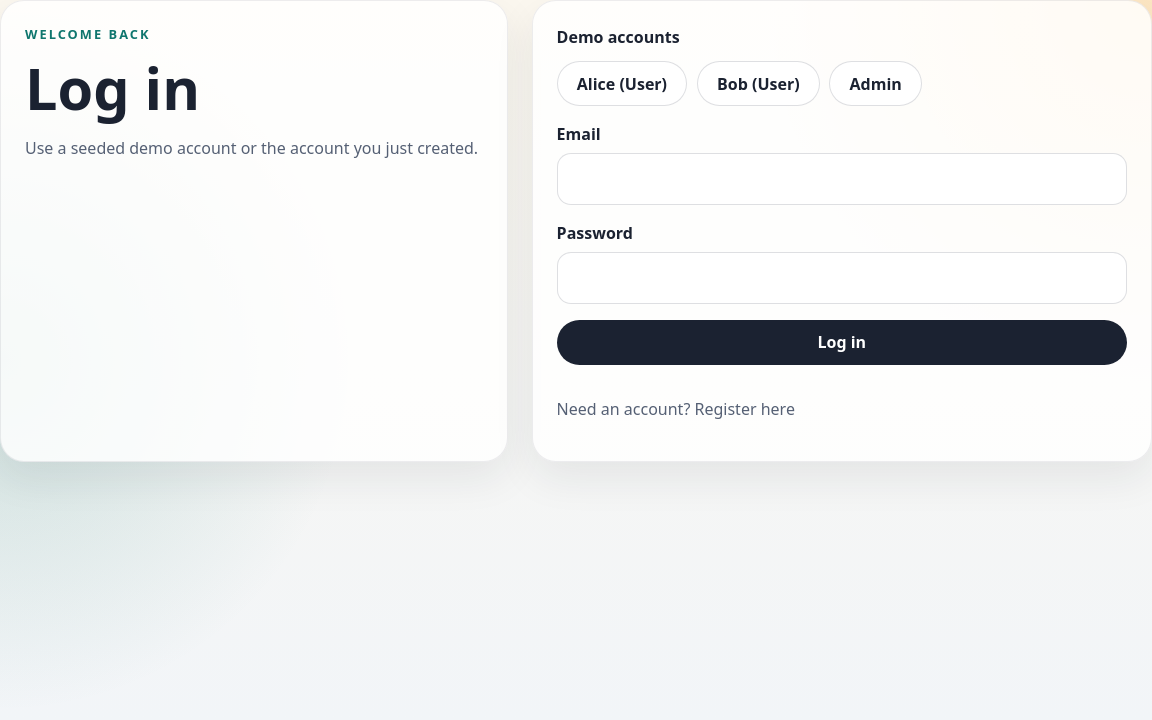
Test: LoginPage › fills the form when {"label":"Bob (User)","email":"bob@example.com","password":"Password123!"} is selected
Step 1. Click the button "Bob (User)" → (758, 84), box [697,61,820,106]
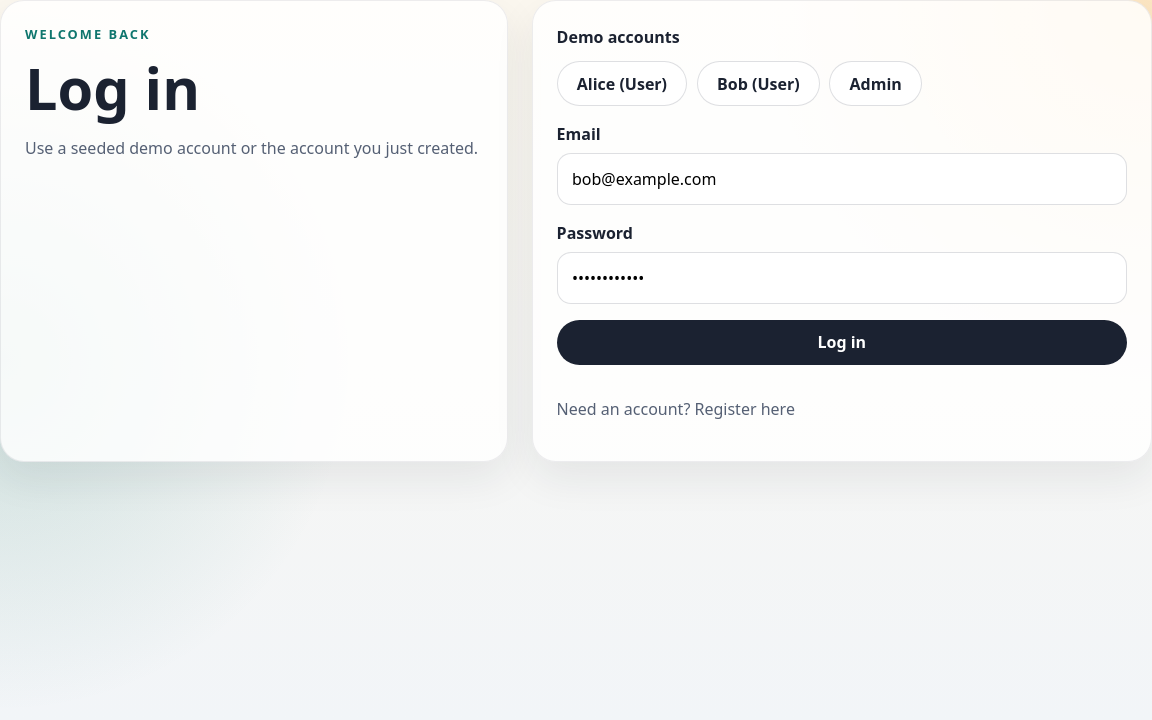
Expected: the field labelled "Email" holds "bob@example.com", [557,153,1127,205]
Expected: the password field labelled "Password" holds "Password123!", [557,252,1127,304]
